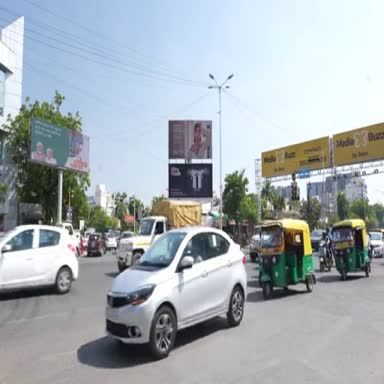Car: (106, 227, 247, 359), (0, 224, 78, 293), (87, 233, 106, 256), (369, 231, 383, 256), (310, 230, 323, 253), (250, 235, 260, 262), (84, 230, 95, 249), (105, 233, 117, 250), (120, 232, 134, 241)
